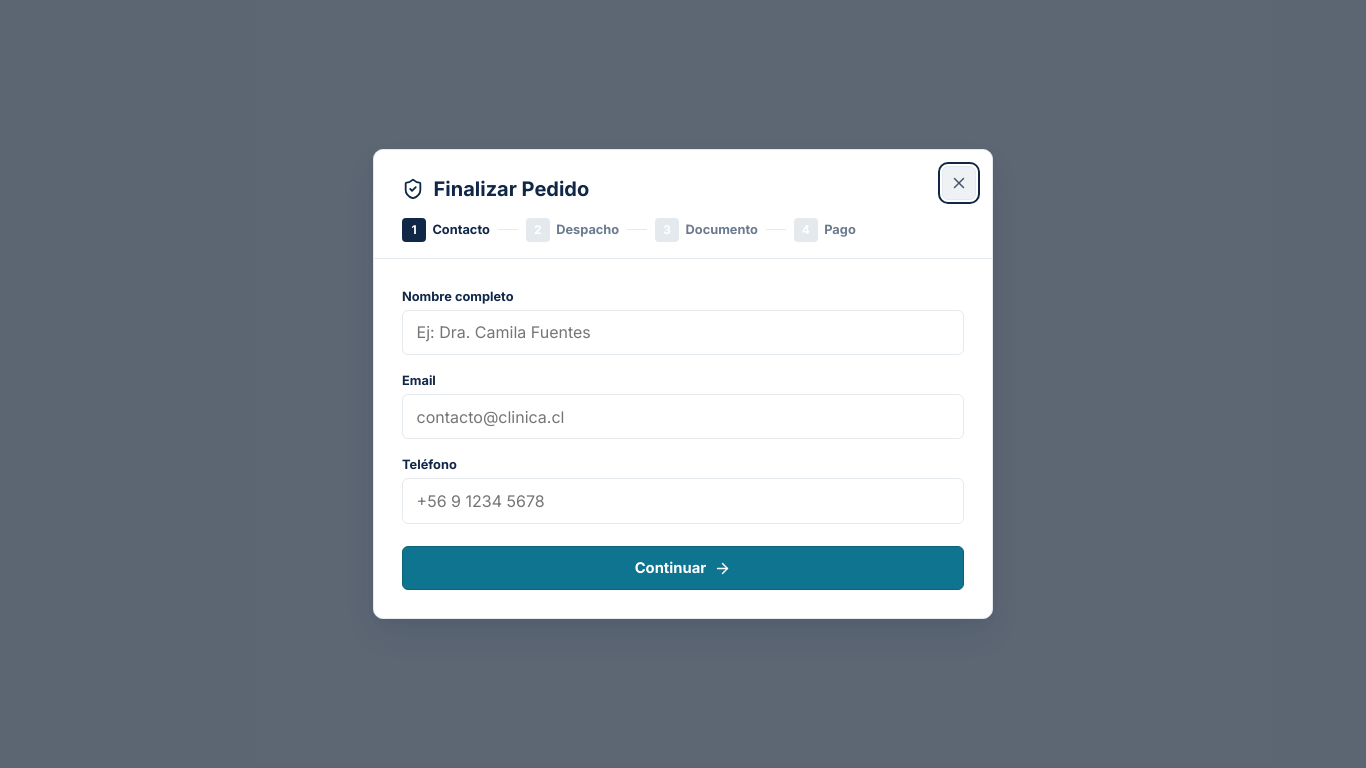
Test case: CheckoutModal Component › should navigate back one step when clicking Volver
In the field with placeholder "Ej: Dra. Camila Fuentes": (683, 332) [402,310,964,355], type "Dra. Andrea Morales"
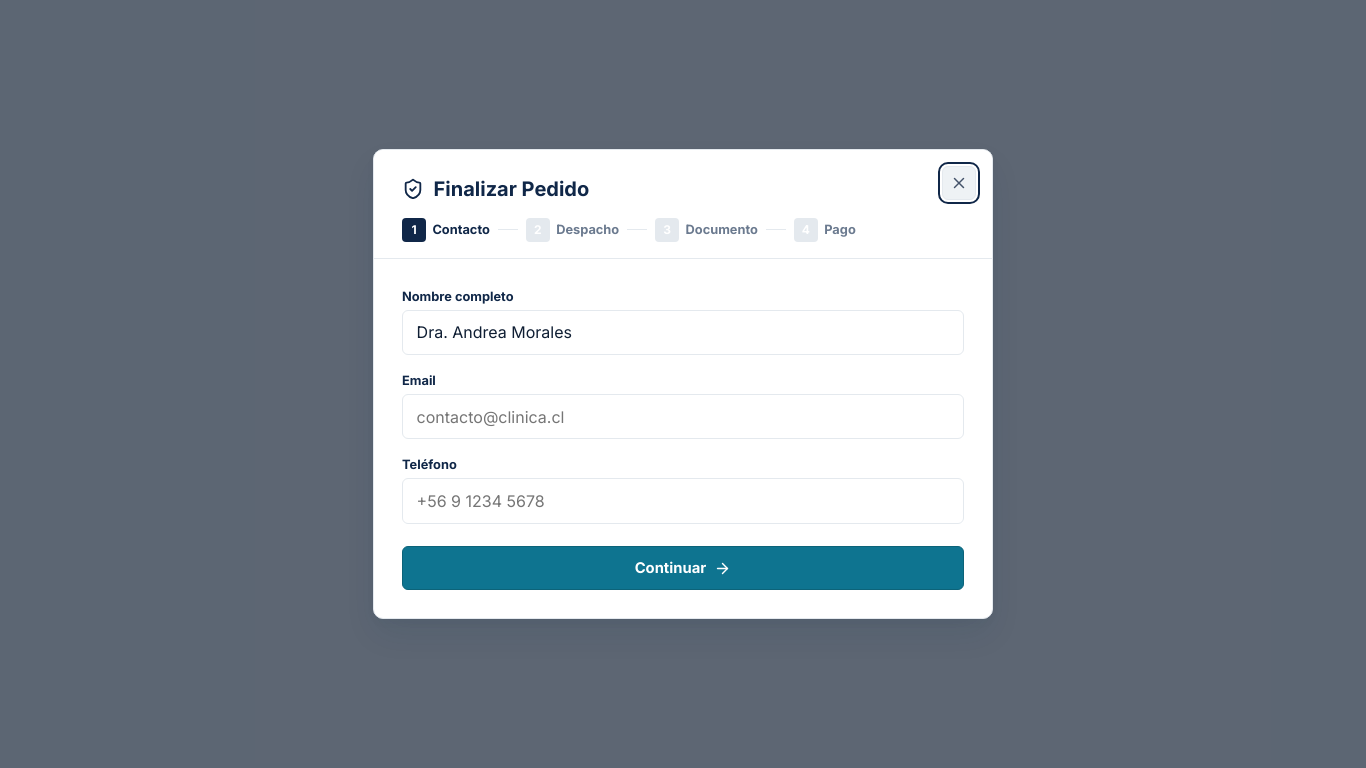
In the field with placeholder "contacto@clinica.cl": (683, 417) [402,394,964,439], type "andrea@moralesdental.cl"
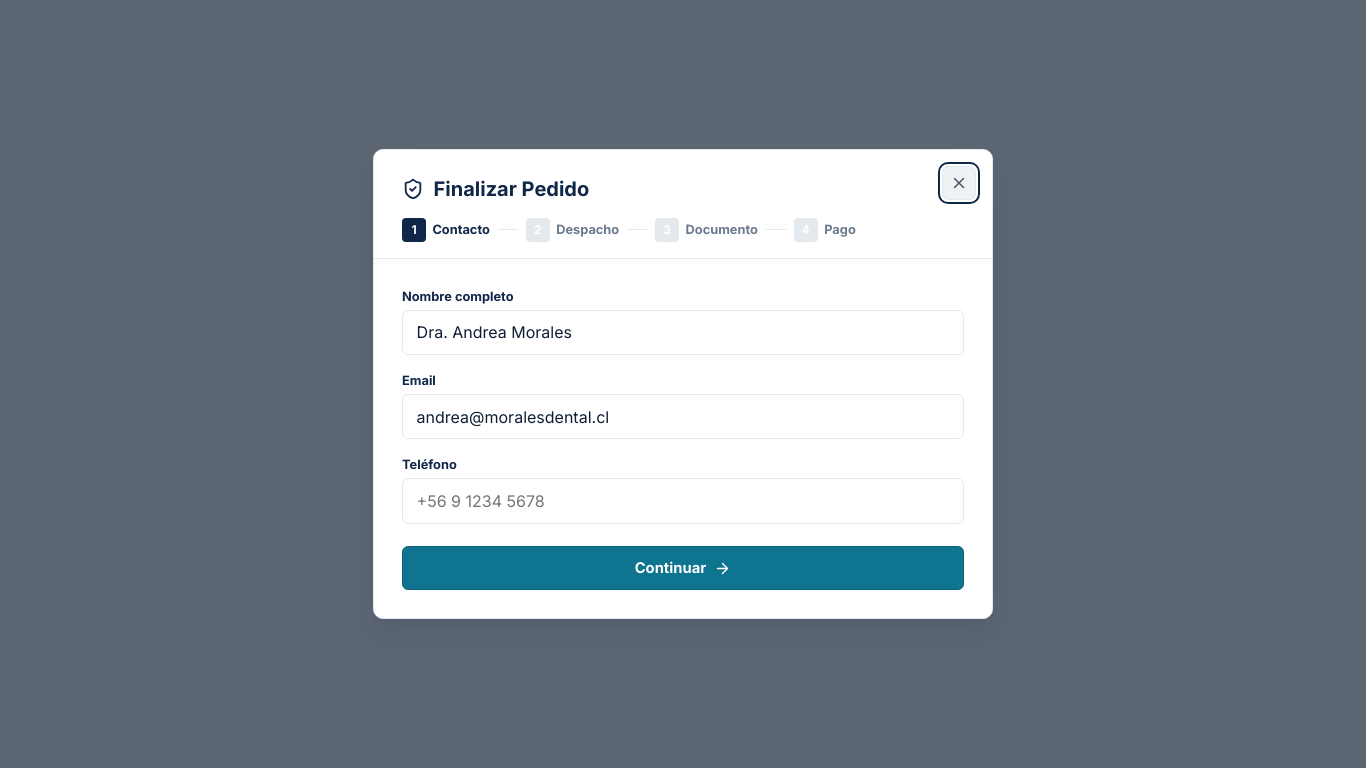
In the field with placeholder "+56 9 1234 5678": (683, 501) [402,478,964,524], type "+56 9 5555 4444"
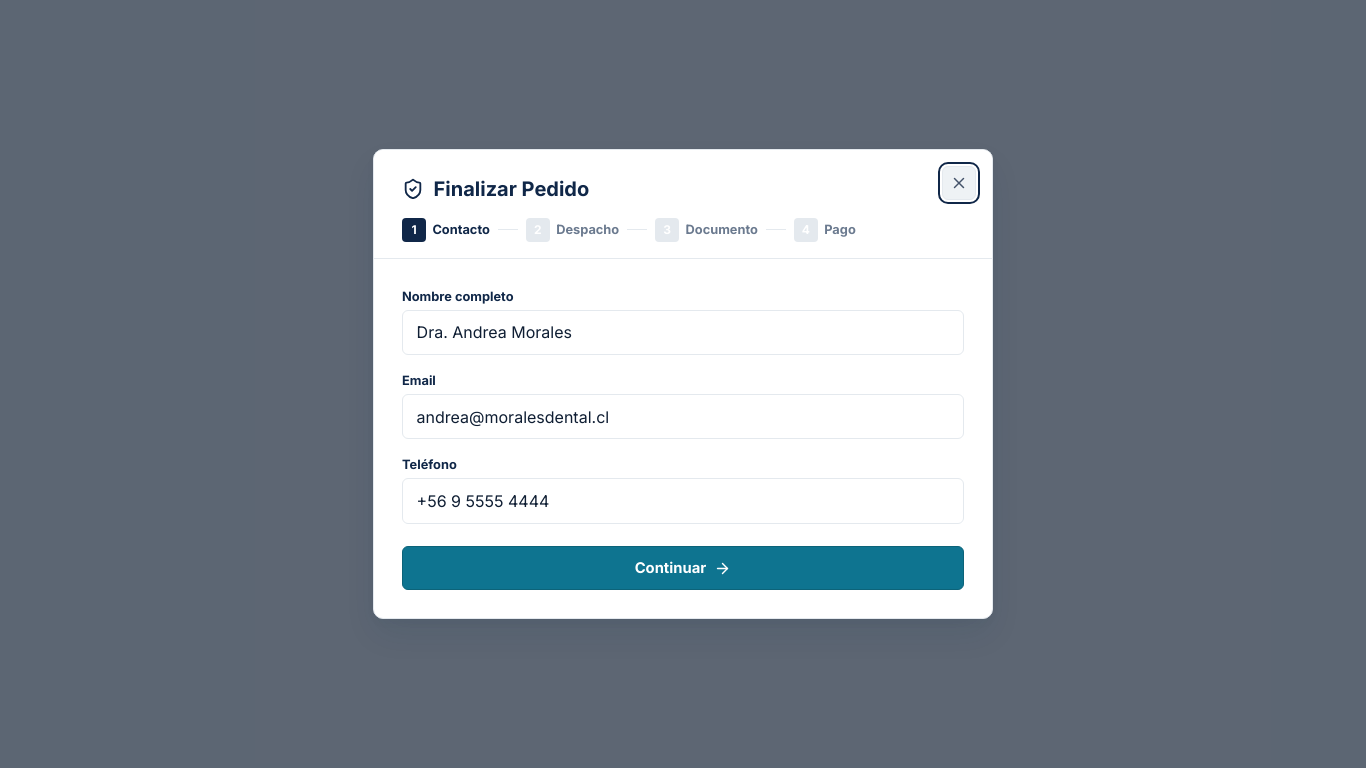
Click the button "Continuar": (683, 568) [402,546,964,590]
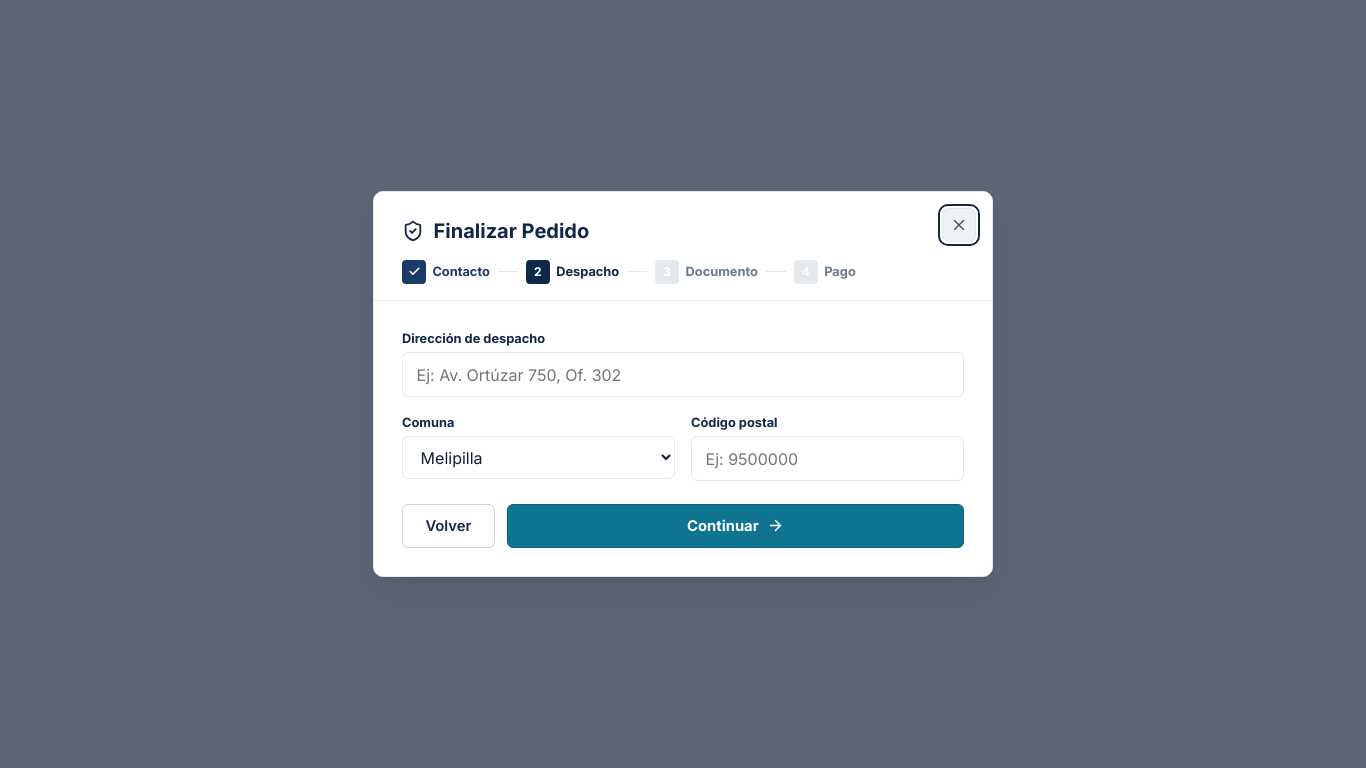
Result: the dropdown named "Comuna de Despacho" is shown at [402,436,675,480]
Click the button "Volver": (448, 526) [402,504,495,548]
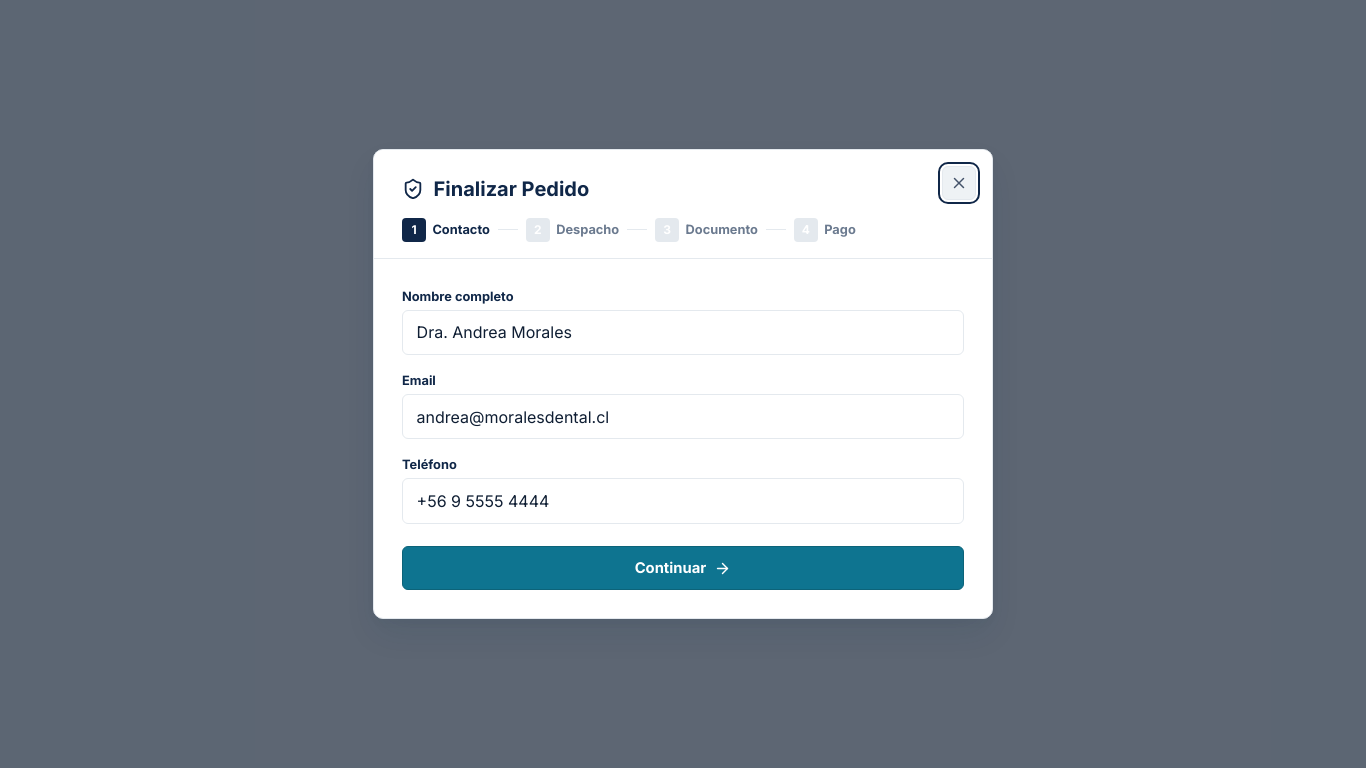
Result: the field with placeholder "Ej: Dra. Camila Fuentes" is shown at [402,310,964,355]
